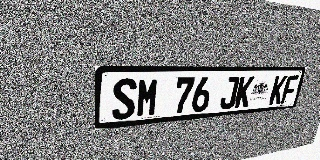6: (191, 77, 213, 112)
7: (172, 77, 195, 114)
F: (280, 75, 299, 104)
J: (219, 76, 240, 110)
K: (234, 76, 255, 108), (268, 75, 288, 105)
M: (136, 78, 160, 118)
S: (112, 78, 137, 120)
